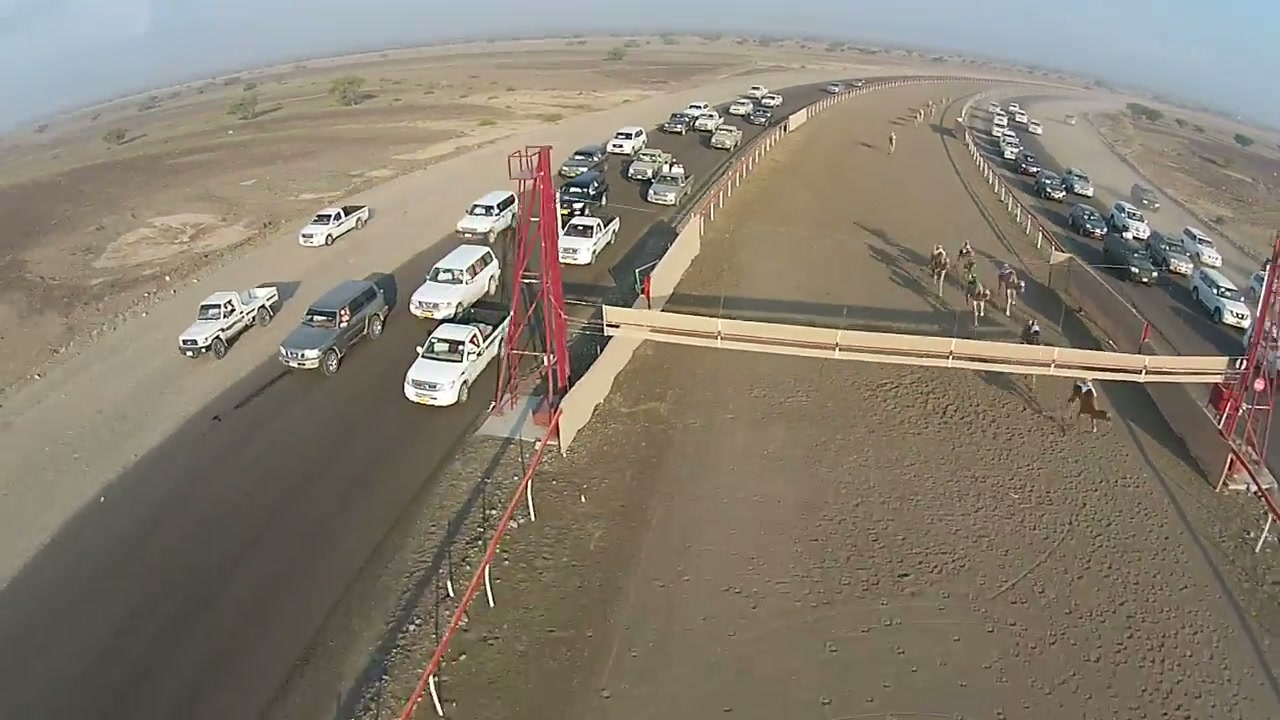animal_foot_print: (933, 395, 1262, 709)
